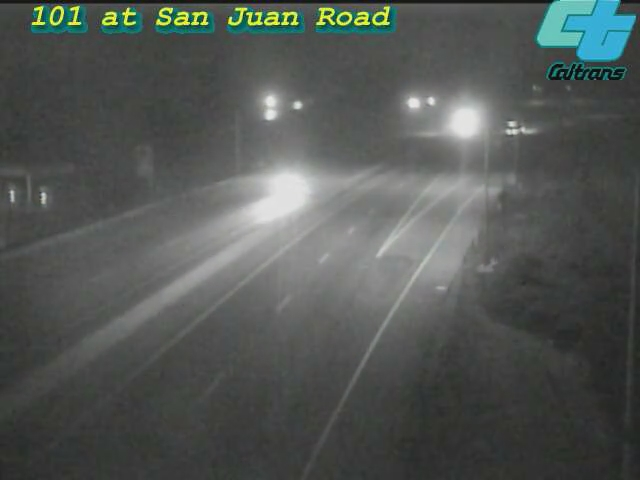vehicle: (248, 147, 328, 227), (439, 97, 489, 147), (491, 103, 541, 153)
